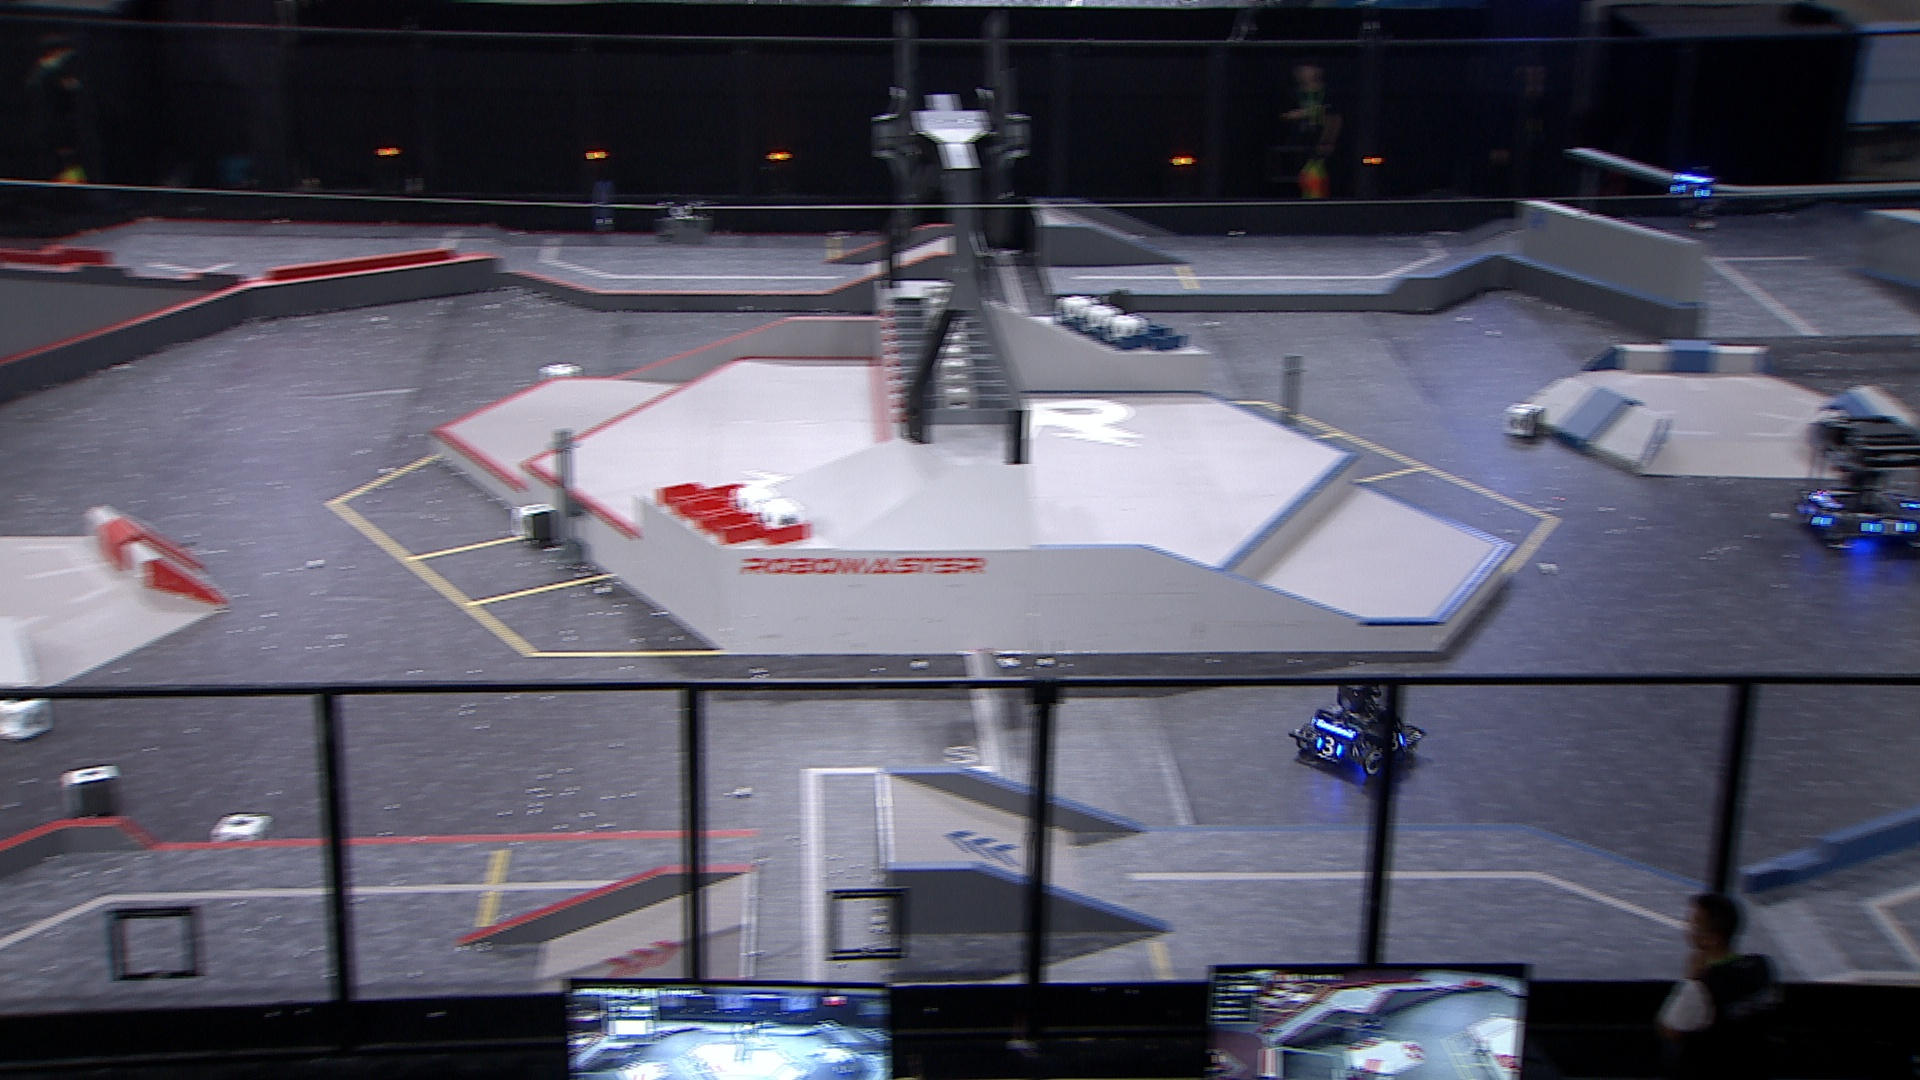armor: (1859, 517, 1920, 538), (1797, 498, 1830, 527), (1667, 179, 1712, 200), (1313, 733, 1344, 760), (1386, 728, 1408, 752)
car: (1785, 406, 1920, 560), (1286, 666, 1429, 781)
watcher: (1664, 160, 1724, 232)
